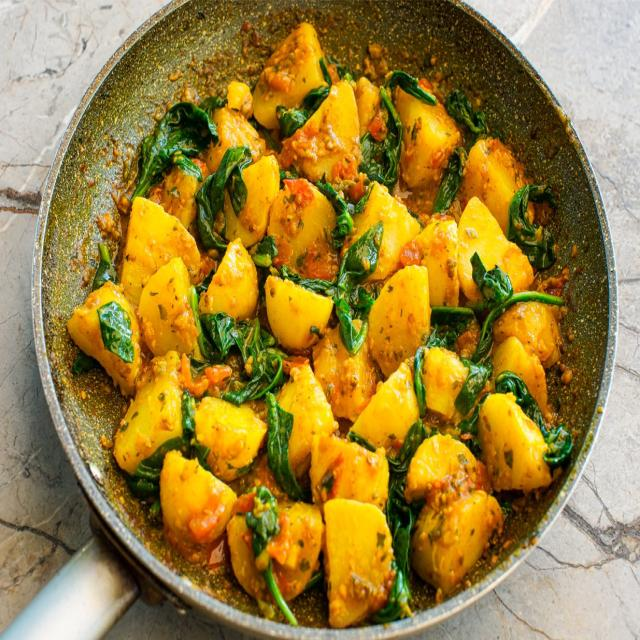aloo_gobi: (60, 17, 612, 635)
